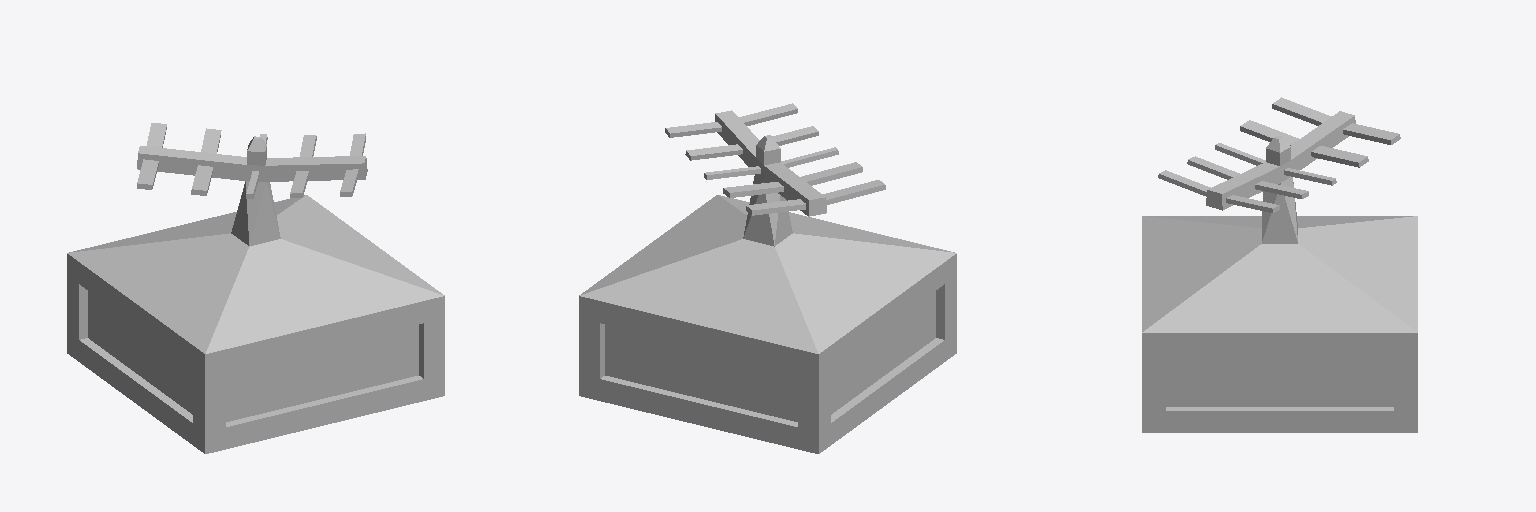
File: Antenna.obj
3 views of the same model, side by side, from view 1: azimuth 30°, elevation 25°; view 2: azimuth 150°, elevation 25°; view 3: azimuth 270°, elevation 25° (orthographic).
Parts seen in each view (by area): view 1: Cube; view 2: Cube; view 3: Cube.
Part boxes in pixels (x1,y1,x2,y2): Cube: (67,123,444,453); Cube: (579,103,956,453); Cube: (1142,97,1417,432).
Bounding box in the file's own units: 1 × 0.9448 × 1.